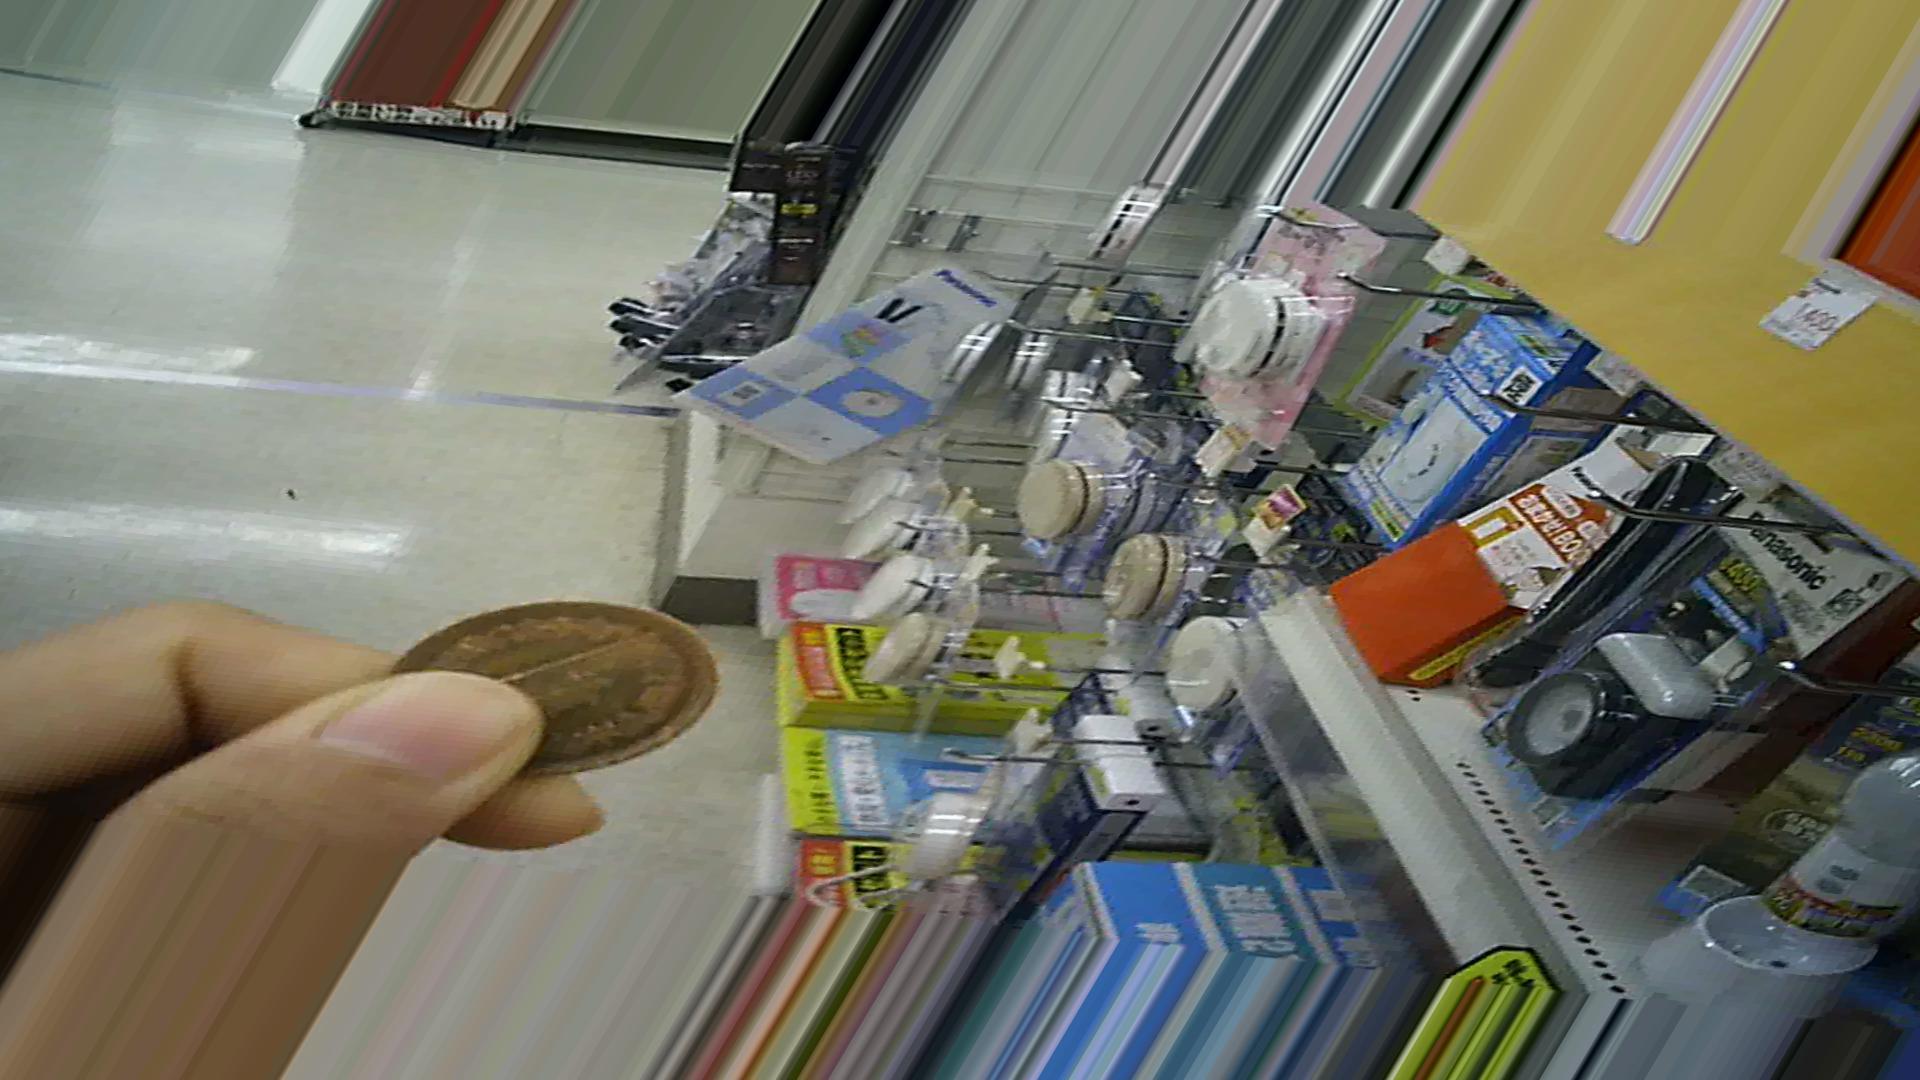10 Yen: (393, 589, 723, 796)
